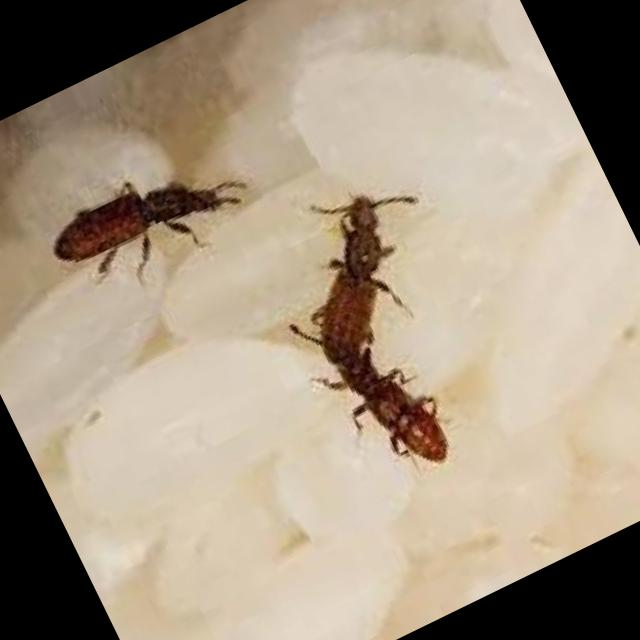rice-bug: (316, 194, 449, 462), (46, 182, 223, 270)
